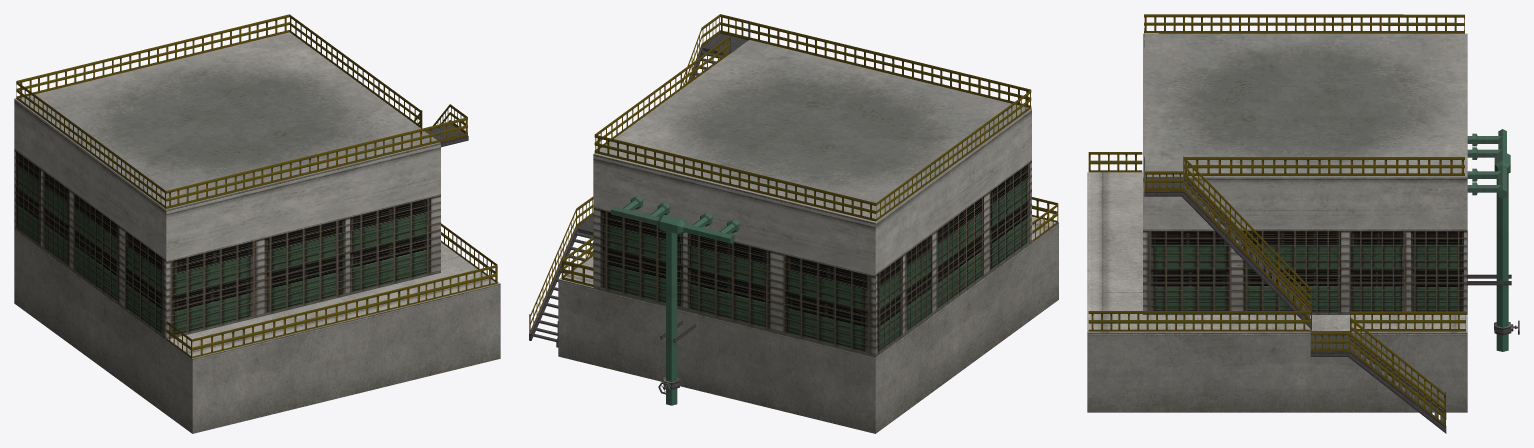
The model's file is laminar_cooling_01.obj.
3 renders of one model, left to right at view 1: azimuth 30°, elevation 25°; view 2: azimuth 150°, elevation 25°; view 3: azimuth 270°, elevation 25°, orthographic. The views are drawn at different scales.
Visible parts, largest first — view 1: Object224; view 2: Object224; view 3: Object224.
Part boxes in pixels (<box>): Object224: <box>14,14,500,433</box>; Object224: <box>529,14,1058,433</box>; Object224: <box>1087,14,1519,433</box>.
Bounding box in the file's own units: 44.69 × 27.79 × 45.23.
